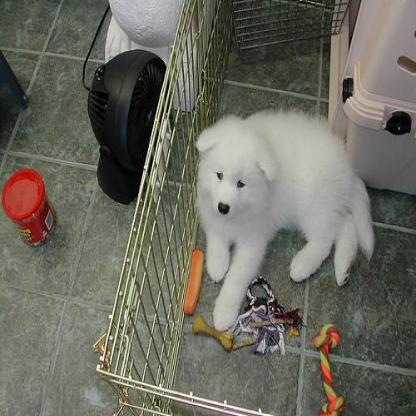Samoyed: (188, 102, 380, 330)
